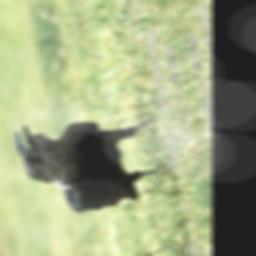Crow: (8, 53, 174, 256)
